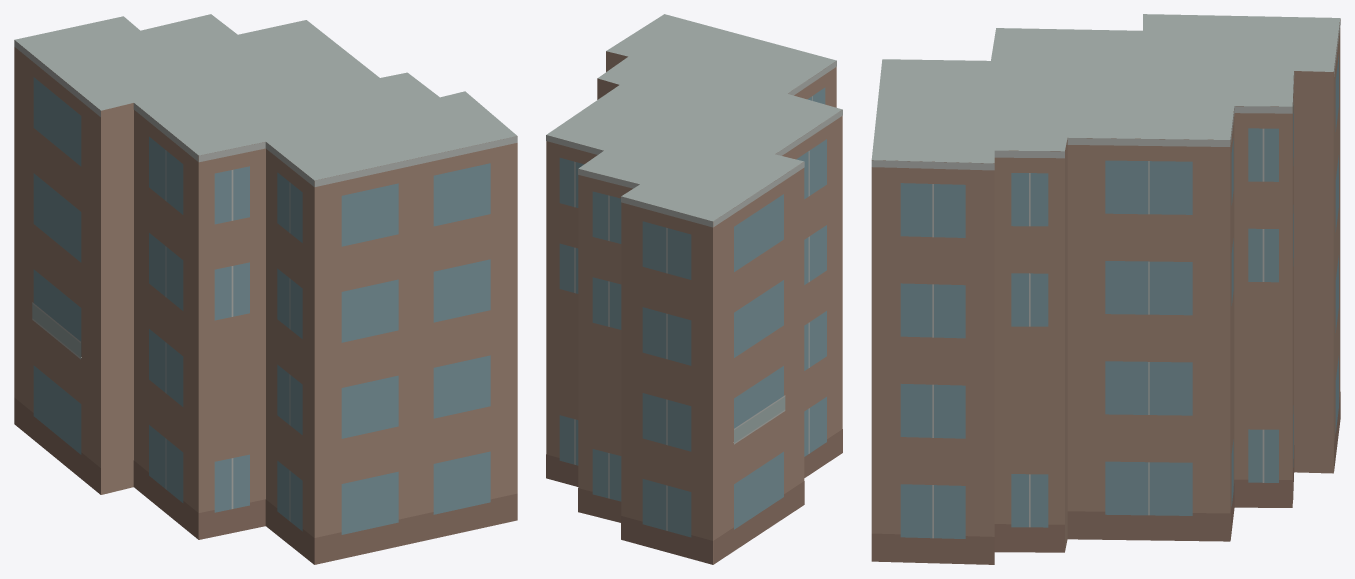
Rendered from survey-upis-32519694.glb.
3 renders of one model, left to right at view 1: azimuth 30°, elevation 25°; view 2: azimuth 150°, elevation 25°; view 3: azimuth 270°, elevation 25°, orthographic. The views are drawn at different scales.
Parts seen in each view (by area): view 1: survey-upis-32519694.tmp; view 2: survey-upis-32519694.tmp; view 3: survey-upis-32519694.tmp.
Boxes of the visible parts, left/top/right/bottom form: survey-upis-32519694.tmp: left=14, top=14, right=517, bottom=564; survey-upis-32519694.tmp: left=546, top=14, right=842, bottom=564; survey-upis-32519694.tmp: left=871, top=14, right=1340, bottom=564.
Size of the model in its own units: 11.06 by 13.85 by 14.67.
